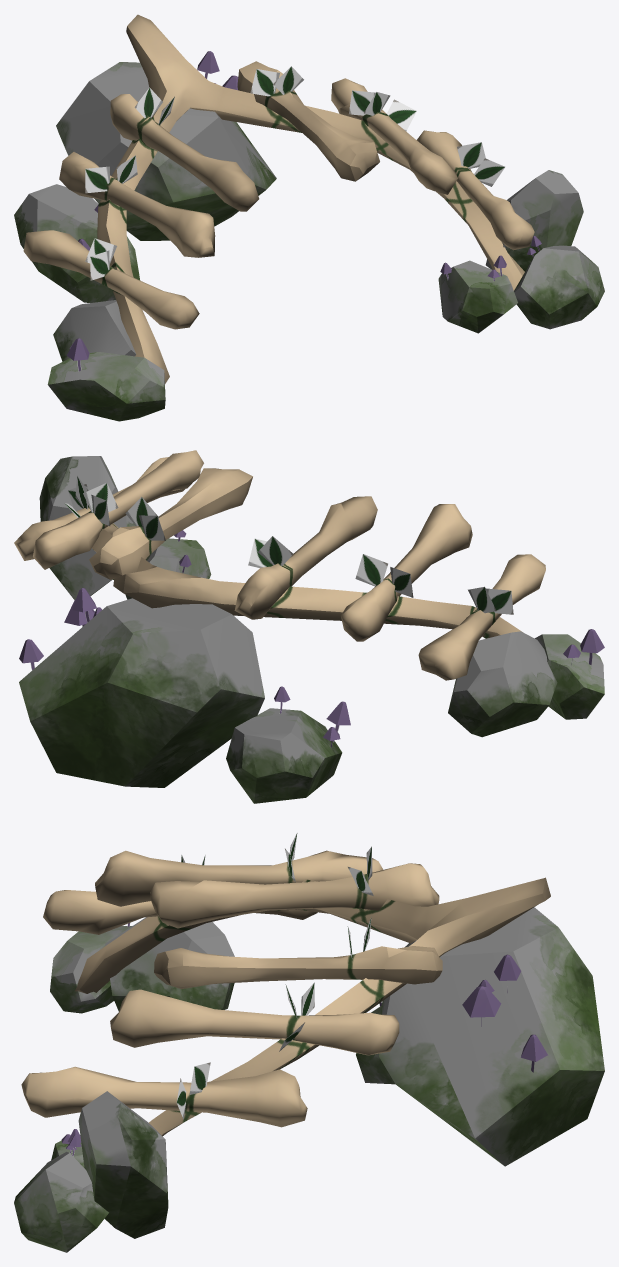
The model's file is bonelaphoneDet_txtd.fbx.
The picture shows the model from 3 angles, top to bottom: view 1: azimuth 30°, elevation 25°; view 2: azimuth 150°, elevation 25°; view 3: azimuth 270°, elevation 25°; orthographic projection. The views are drawn at different scales.
Parts seen in each view (by area): view 1: XyB_Base, XyB_Leaves, XyB_3, XyB_1, XyB_2, XyB_4, XyB_5, XyB_6; view 2: XyB_Base, XyB_4, XyB_Leaves, XyB_3, XyB_2, XyB_5, XyB_1, XyB_6; view 3: XyB_Base, XyB_5, XyB_6, XyB_3, XyB_4, XyB_2, XyB_1, XyB_Leaves.
Boxes of the visible parts, x1,y1,x2,y2 form: XyB_Base: (14,14,604,421); XyB_Leaves: (85,66,504,280); XyB_3: (110,94,259,211); XyB_1: (23,230,199,329); XyB_2: (59,152,215,257); XyB_4: (237,61,379,181); XyB_5: (331,78,457,194); XyB_6: (417,130,534,250); XyB_Base: (19,456,604,803); XyB_4: (89,468,252,579); XyB_Leaves: (64,476,513,614); XyB_3: (234,496,377,619); XyB_2: (341,504,472,641); XyB_5: (33,450,203,569); XyB_1: (418,554,545,680); XyB_6: (14,457,200,560); XyB_Base: (14,877,604,1252); XyB_5: (110,989,399,1055); XyB_6: (21,1066,307,1127); XyB_3: (150,863,439,928); XyB_4: (154,946,442,989); XyB_2: (95,850,383,906); XyB_1: (43,890,317,934); XyB_Leaves: (176,833,373,1119).
Bounding box in the file's own units: 705 × 277 × 587.
Materials: 1 (1 with a texture image).
